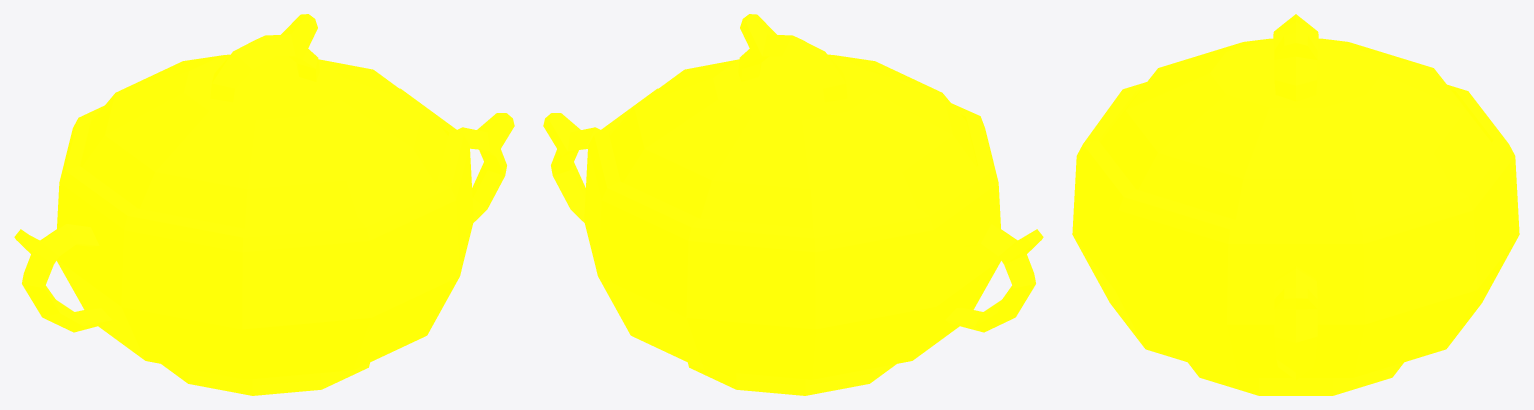
The model's file is mashed-potato.glb.
3 renders of one model, left to right at view 1: azimuth 30°, elevation 25°; view 2: azimuth 150°, elevation 25°; view 3: azimuth 270°, elevation 25°, orthographic. The views are drawn at different scales.
Visible parts, largest first — view 1: mashed_potato_base, mashed_potato_lid; view 2: mashed_potato_base, mashed_potato_lid; view 3: mashed_potato_base, mashed_potato_lid.
Part boxes in pixels (x1,y1,x2,y2): mashed_potato_base: [14, 88, 514, 395]; mashed_potato_lid: [80, 14, 448, 228]; mashed_potato_base: [543, 88, 1043, 395]; mashed_potato_lid: [609, 14, 977, 228]; mashed_potato_base: [1072, 82, 1519, 395]; mashed_potato_lid: [1100, 14, 1491, 219].
Size of the model in its own units: 0.4001 by 0.2487 by 0.2983.
1 material, 1 textured.
